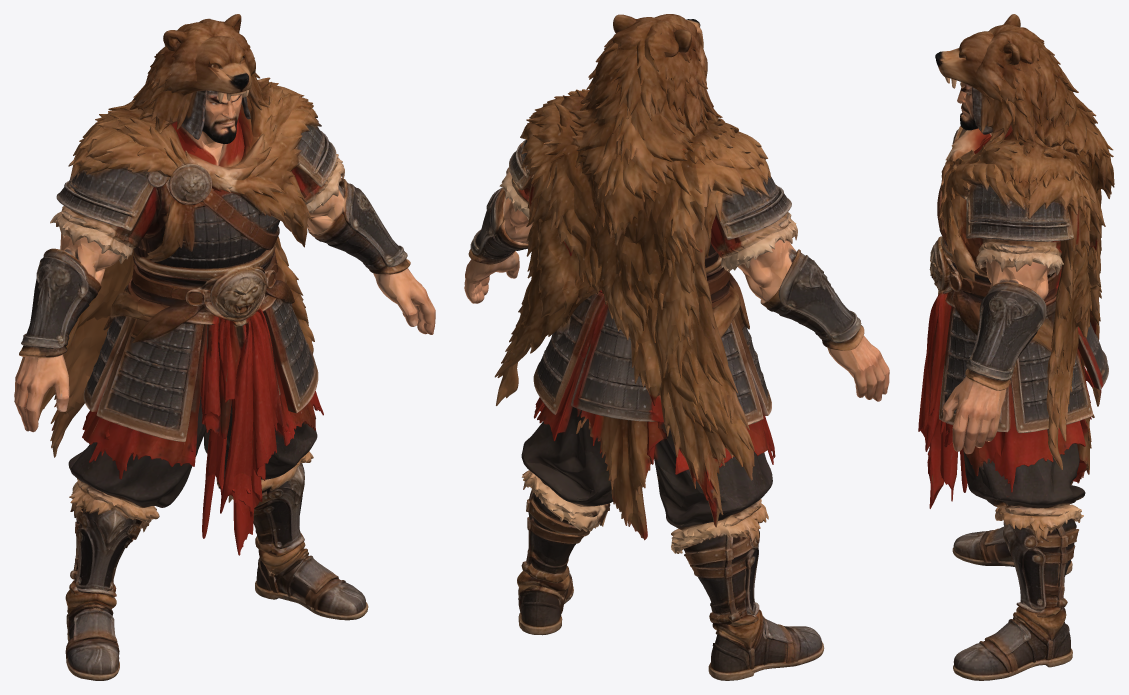
Rendered from glb.glb.
3 views of the same model, side by side, from view 1: azimuth 30°, elevation 25°; view 2: azimuth 150°, elevation 25°; view 3: azimuth 270°, elevation 25° (orthographic). The views are drawn at different scales.
Bounding box in the file's own units: 1.35 × 1.9 × 0.5789.
1 material, 1 textured.
